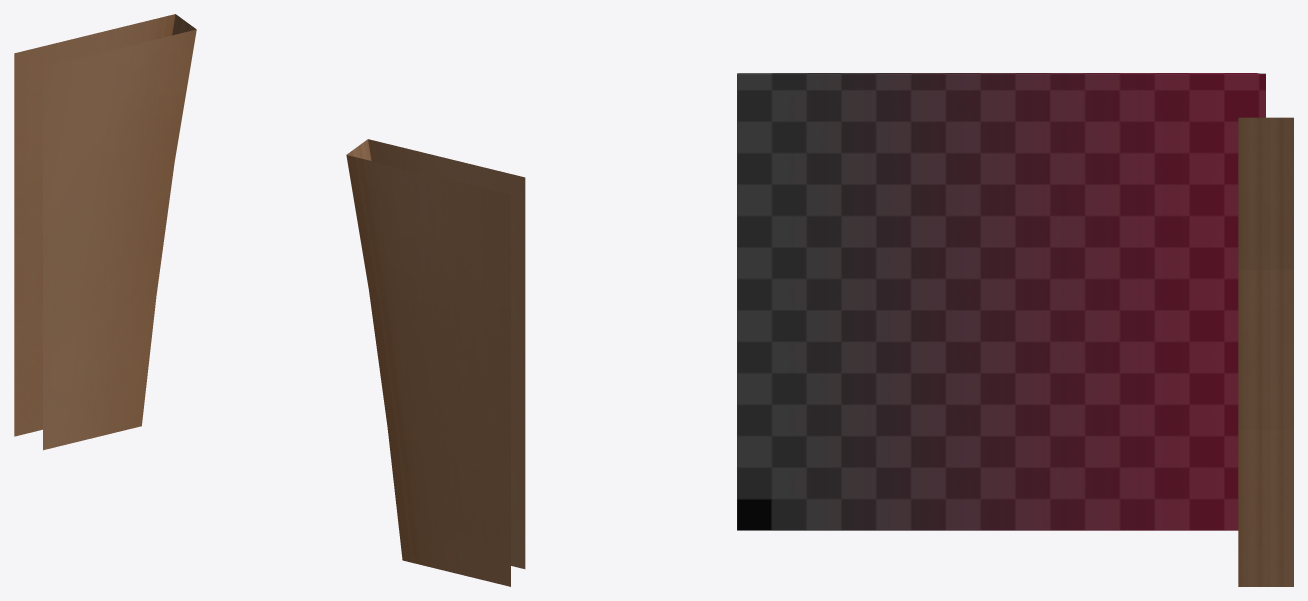
Rendered from sovereign_corridor_middle_right.obj.
3 renders of one model, left to right at view 1: azimuth 30°, elevation 25°; view 2: azimuth 150°, elevation 25°; view 3: azimuth 270°, elevation 25°, orthographic. The views are drawn at different scales.
Visible parts, largest first — view 1: corridor_middle_right_Box001.009; view 2: corridor_middle_right_Box001.009; view 3: corridor_middle_right_Box001.009.
Boxes of the visible parts, box(x1,y1,x2,y2) form: corridor_middle_right_Box001.009: box(14, 14, 196, 450); corridor_middle_right_Box001.009: box(346, 139, 525, 586); corridor_middle_right_Box001.009: box(737, 73, 1293, 586).
Size of the model in its own units: 0.44 by 1 by 1.
